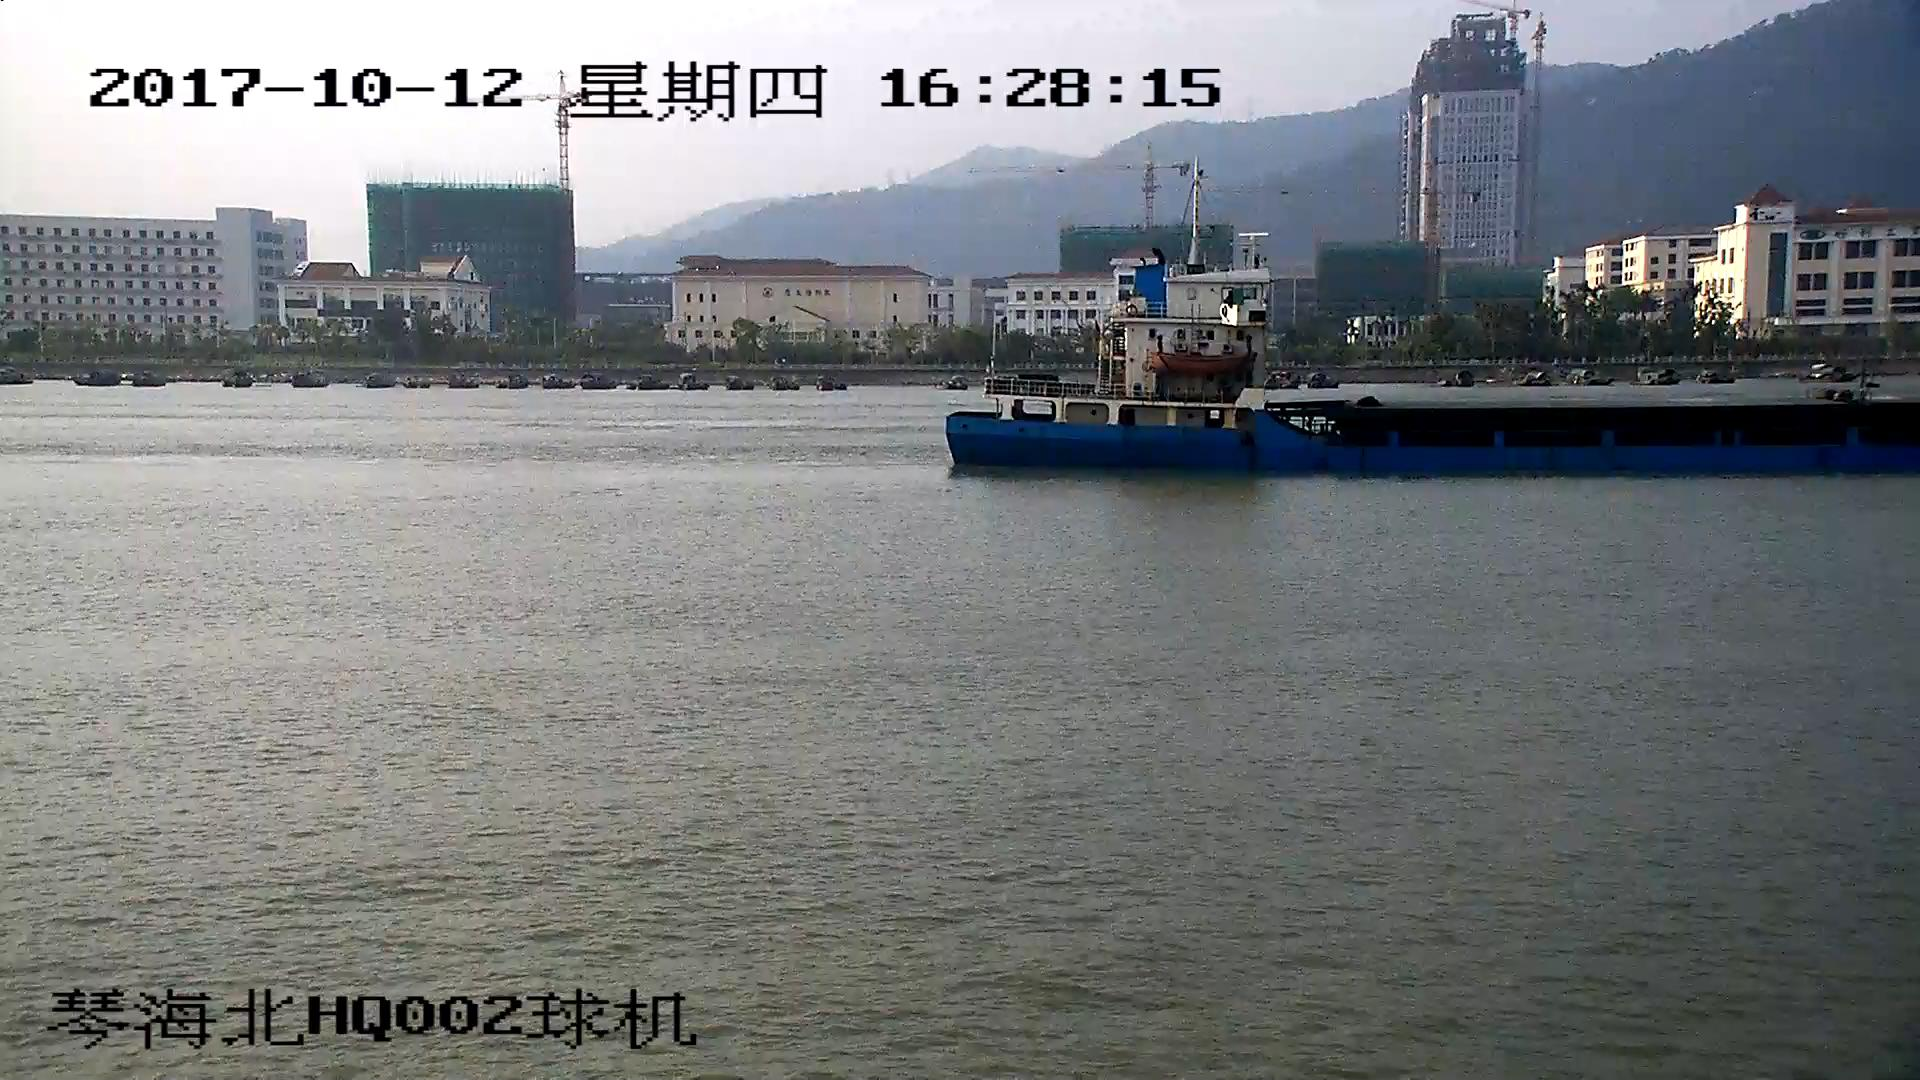general cargo ship: (951, 172, 1920, 480)
